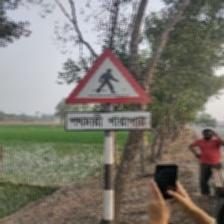Pedestrian-crossing: (63, 47, 153, 134)
